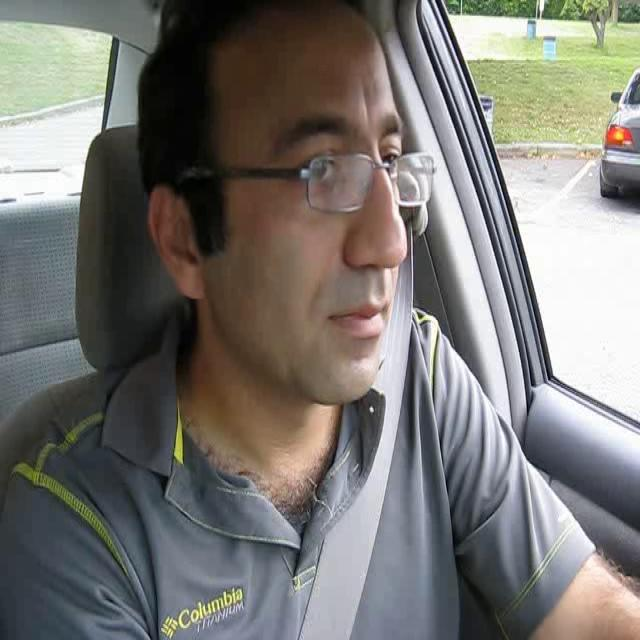close: (326, 291, 394, 343)
